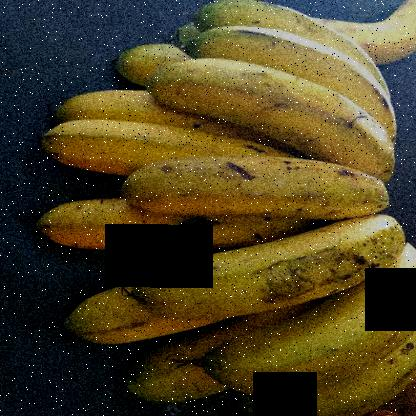ripe: (146, 189, 415, 322), (147, 55, 393, 180), (220, 257, 416, 384), (204, 29, 415, 137), (124, 152, 411, 214), (22, 179, 238, 252), (24, 118, 246, 176), (62, 268, 178, 341)
